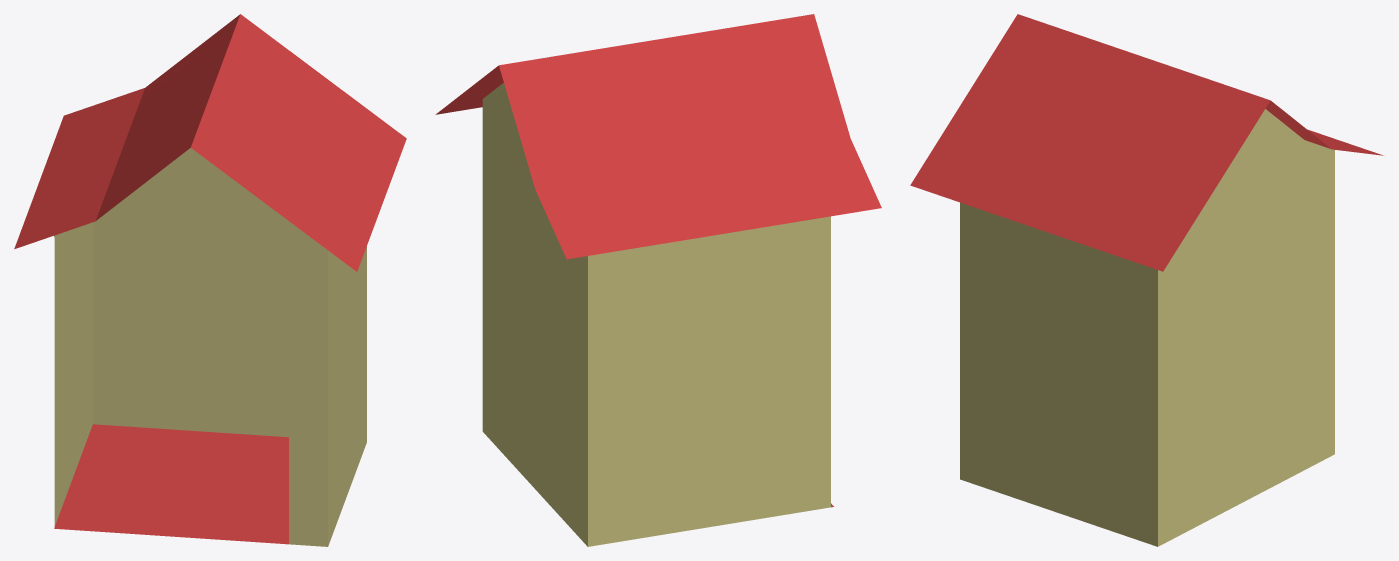
3 views of the same model, side by side, from view 1: azimuth 30°, elevation 25°; view 2: azimuth 150°, elevation 25°; view 3: azimuth 270°, elevation 25° (orthographic). The views are drawn at different scales.
Bounding box in the file's own units: 10.11 × 10.03 × 9.59.
